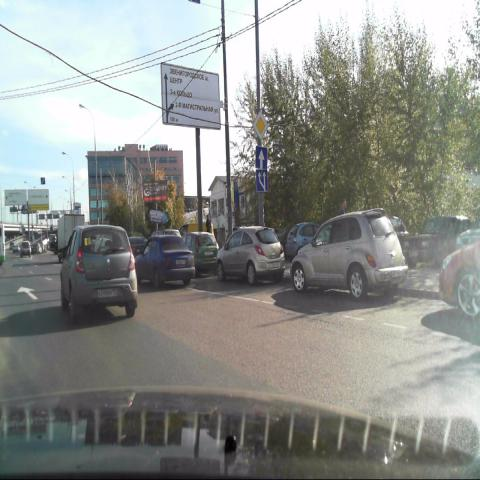5_15_3: (255, 169, 268, 193)
